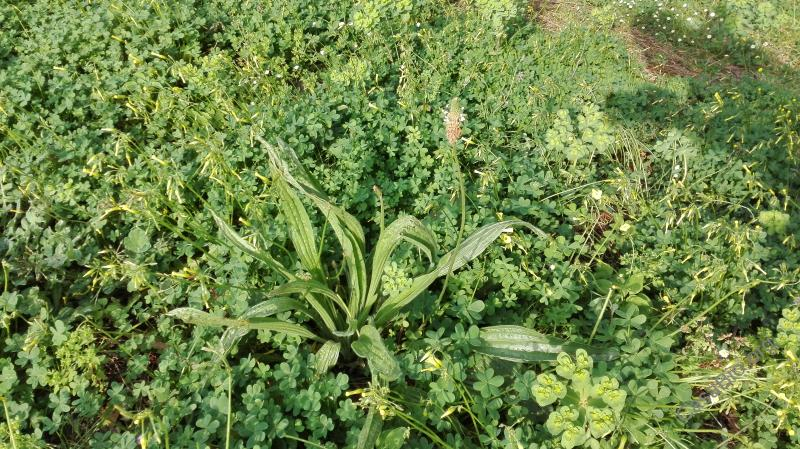buckhorn plantain: (216, 131, 494, 359), (428, 88, 474, 171)
